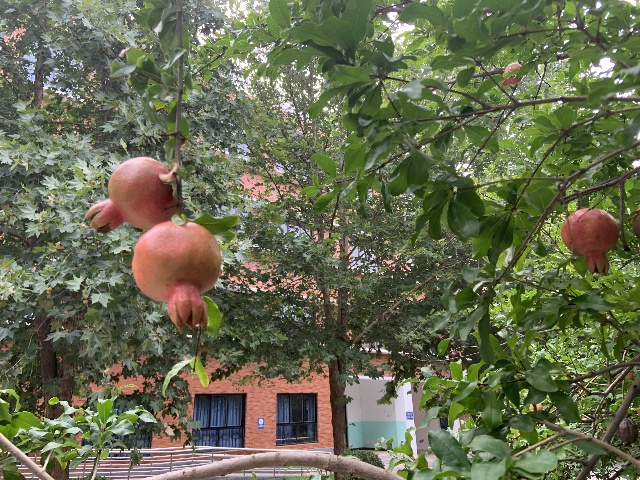ripe: (131, 220, 222, 333), (87, 156, 179, 232), (561, 207, 619, 276), (500, 63, 522, 85)
